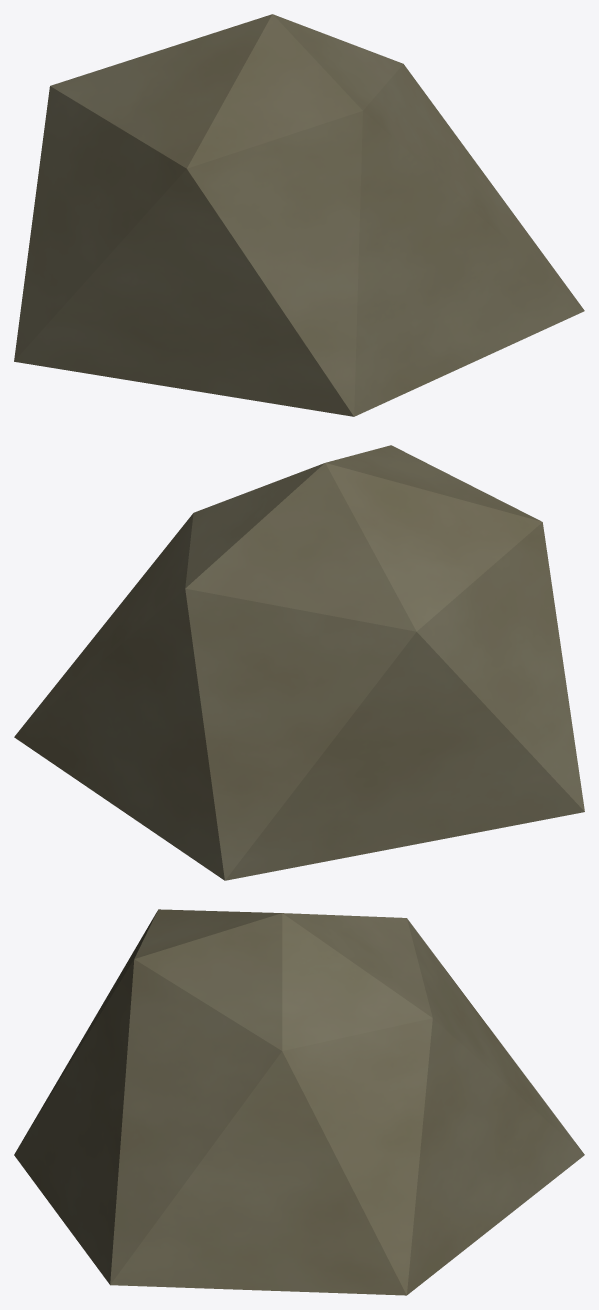
The picture shows the model from 3 angles, top to bottom: view 1: azimuth 30°, elevation 25°; view 2: azimuth 150°, elevation 25°; view 3: azimuth 270°, elevation 25°; orthographic projection. The views are drawn at different scales.
Visible parts, largest first — view 1: Icosphere_0; view 2: Icosphere_0; view 3: Icosphere_0.
Boxes of the visible parts, left/top/right/bottom form: Icosphere_0: left=14, top=14, right=584, bottom=416; Icosphere_0: left=14, top=445, right=584, bottom=880; Icosphere_0: left=14, top=909, right=584, bottom=1295.
Size of the model in its own units: 5.03 by 2.72 by 5.23.
Materials: 1 (1 with a texture image).
